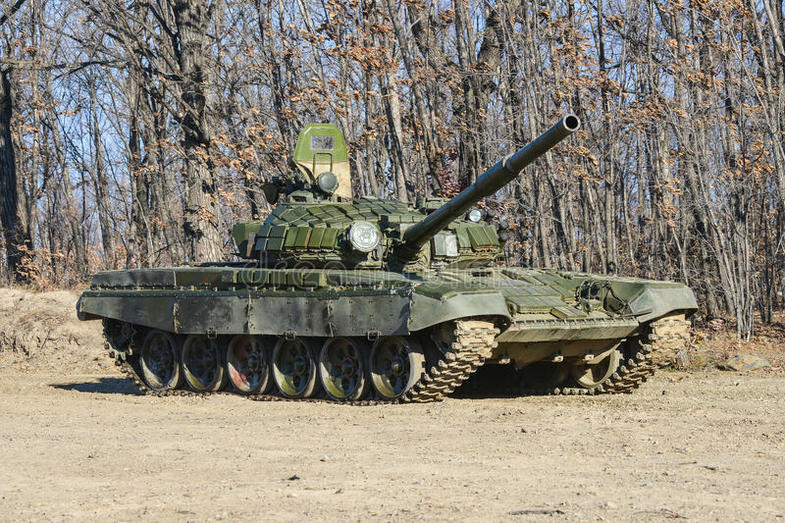t72: (80, 144, 700, 397)
